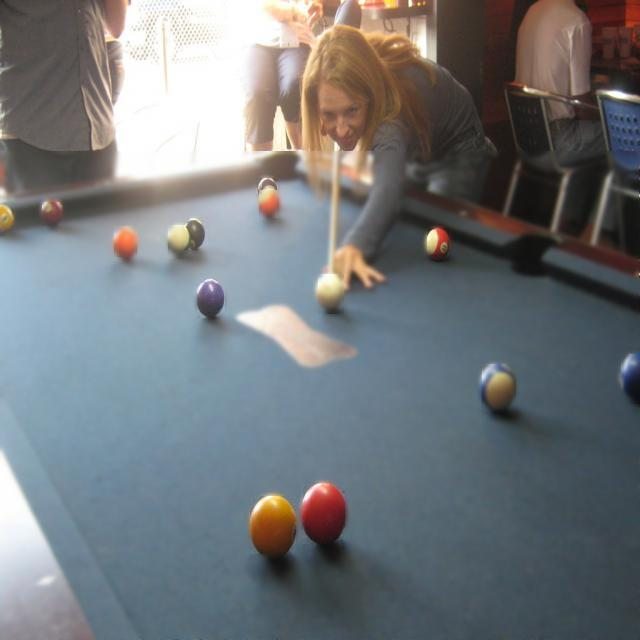Ball: (303, 482, 345, 548), (250, 496, 296, 554), (482, 364, 516, 414), (197, 278, 225, 322), (318, 274, 344, 314), (621, 354, 640, 404), (168, 225, 191, 259), (184, 218, 208, 250), (427, 228, 449, 262), (114, 226, 137, 257), (260, 190, 280, 218), (42, 202, 62, 226), (0, 202, 14, 236), (256, 178, 278, 194)
Billiard table: (0, 151, 639, 639)
